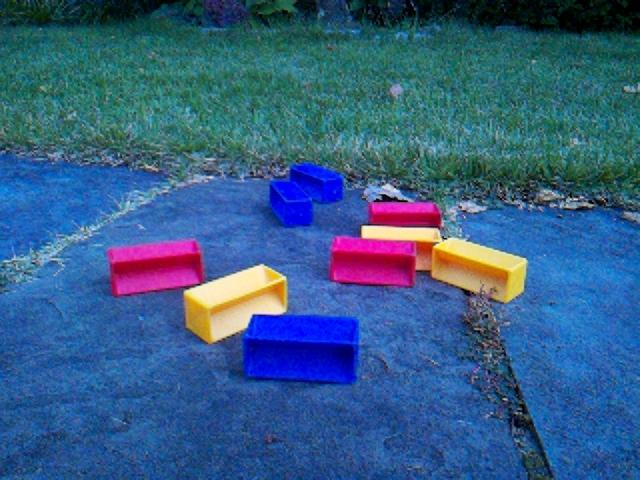blue: (241, 311, 362, 385), (290, 163, 345, 206), (270, 180, 315, 229)
red: (106, 237, 206, 297), (329, 234, 418, 288), (367, 200, 443, 228)
yellow: (183, 262, 289, 345), (430, 236, 529, 304), (360, 223, 442, 272)
